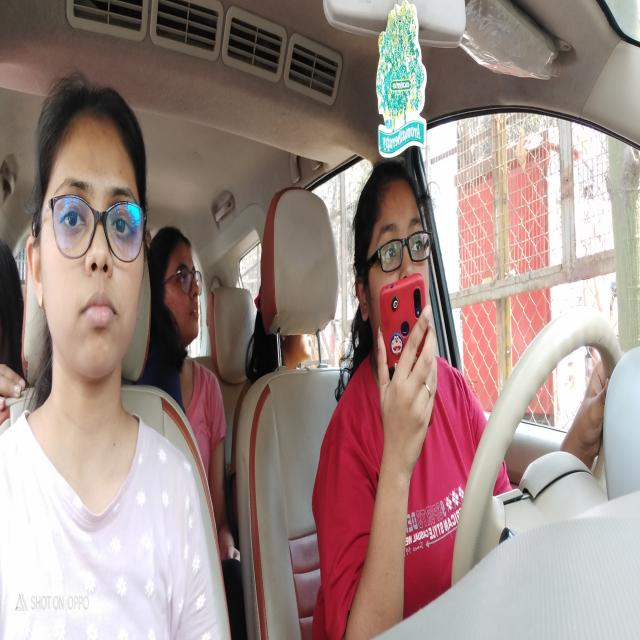mobile: (378, 275, 431, 402)
person: (19, 85, 153, 392), (349, 162, 440, 371), (151, 226, 208, 344), (252, 280, 323, 372)
